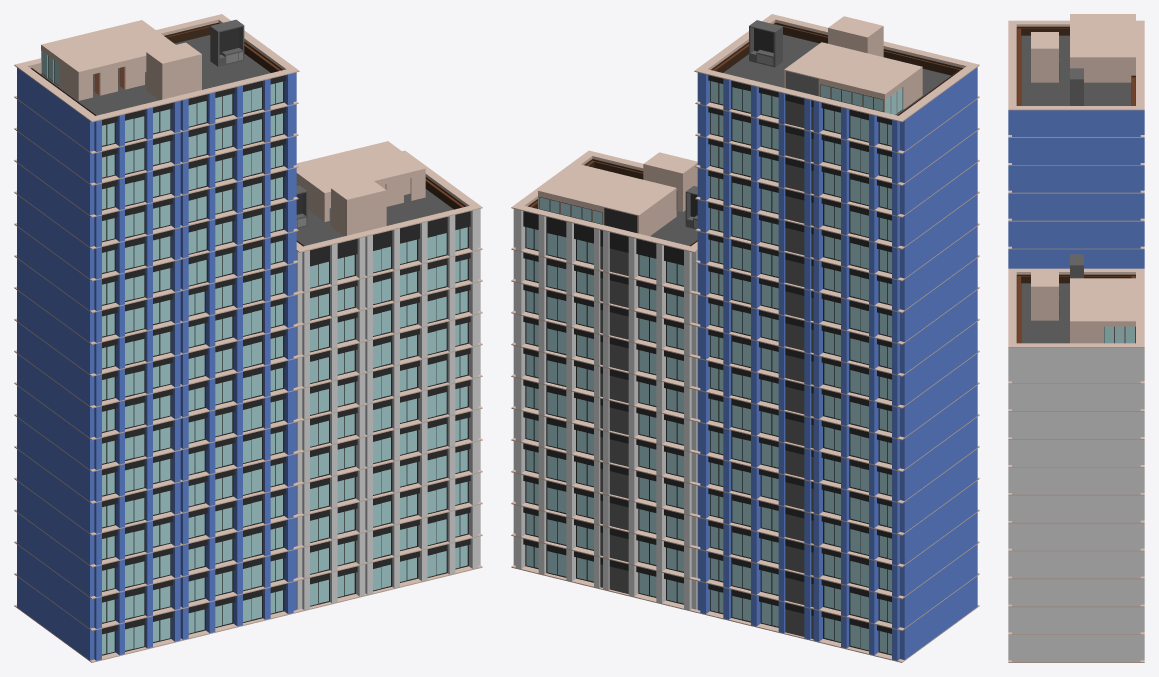
Rendered from MSH_Torre-A 1.fbx.
The picture shows the model from 3 angles, left to right: view 1: azimuth 30°, elevation 25°; view 2: azimuth 150°, elevation 25°; view 3: azimuth 270°, elevation 25°; orthographic projection. The views are drawn at different scales.
Visible parts, largest first — view 1: MSH_Piso_13, MSH_Amenidades_Piso_20, MSH_Piso_3.004, MSH_Piso_3.005, MSH_Piso_3.001, MSH_Piso_3.006, MSH_Piso_3.009, MSH_Piso_3.010, MSH_Piso_3.002, MSH_Piso_3.003, MSH_Piso_3.007, MSH_Piso_3.008 (+8 smaller); view 2: MSH_Piso_13, MSH_Amenidades_Piso_20, MSH_Piso_3.004, MSH_Piso_3.005, MSH_Piso_3.001, MSH_Piso_3.003, MSH_Piso_3.006, MSH_Piso_3.008, MSH_Piso_3.009, MSH_Piso_3.010, MSH_Piso_3.002, MSH_Piso_3.007 (+8 smaller); view 3: MSH_Amenidades_Piso_20, MSH_Amenidades_Piso_13, MSH_Piso_13, MSH_Piso_3.003, MSH_Piso_3.004, MSH_Piso_3.005, MSH_Piso_3.006, MSH_Piso_3.007, MSH_Piso_14.001, MSH_Piso_14.002, MSH_Piso_14.003, MSH_Piso_3.001 (+9 smaller).
Part boxes in pixels (bbox=[...]): MSH_Piso_13: bbox=[14, 209, 482, 344]; MSH_Amenidades_Piso_20: bbox=[14, 14, 299, 122]; MSH_Piso_3.004: bbox=[14, 441, 482, 567]; MSH_Piso_3.005: bbox=[14, 409, 482, 535]; MSH_Piso_3.001: bbox=[14, 536, 482, 662]; MSH_Piso_3.006: bbox=[14, 377, 482, 503]; MSH_Piso_3.009: bbox=[14, 282, 482, 408]; MSH_Piso_3.010: bbox=[14, 250, 482, 376]; MSH_Piso_3.002: bbox=[14, 504, 482, 630]; MSH_Piso_3.003: bbox=[14, 473, 482, 599]; MSH_Piso_3.007: bbox=[14, 345, 482, 471]; MSH_Piso_3.008: bbox=[14, 314, 482, 440]; MSH_Piso_13: bbox=[511, 209, 979, 344]; MSH_Amenidades_Piso_20: bbox=[694, 14, 979, 122]; MSH_Piso_3.004: bbox=[511, 441, 979, 567]; MSH_Piso_3.005: bbox=[511, 409, 979, 535]; MSH_Piso_3.001: bbox=[511, 536, 979, 662]; MSH_Piso_3.003: bbox=[511, 473, 979, 599]; MSH_Piso_3.006: bbox=[511, 377, 979, 503]; MSH_Piso_3.008: bbox=[511, 314, 979, 440]; MSH_Piso_3.009: bbox=[511, 282, 979, 408]; MSH_Piso_3.010: bbox=[511, 250, 979, 376]; MSH_Piso_3.002: bbox=[511, 505, 979, 630]; MSH_Piso_3.007: bbox=[511, 346, 979, 471]; MSH_Amenidades_Piso_20: bbox=[1008, 14, 1144, 110]; MSH_Amenidades_Piso_13: bbox=[1008, 268, 1144, 347]; MSH_Piso_13: bbox=[1008, 347, 1144, 383]; MSH_Piso_3.003: bbox=[1008, 579, 1144, 607]; MSH_Piso_3.004: bbox=[1008, 551, 1144, 579]; MSH_Piso_3.005: bbox=[1008, 523, 1144, 551]; MSH_Piso_3.006: bbox=[1008, 495, 1144, 523]; MSH_Piso_3.007: bbox=[1008, 467, 1144, 495]; MSH_Piso_14.001: bbox=[1008, 221, 1144, 249]; MSH_Piso_14.002: bbox=[1008, 193, 1144, 221]; MSH_Piso_14.003: bbox=[1008, 165, 1144, 193]; MSH_Piso_3.001: bbox=[1008, 635, 1144, 662].
Size of the model in its own units: 4244 by 5910 by 1460.
